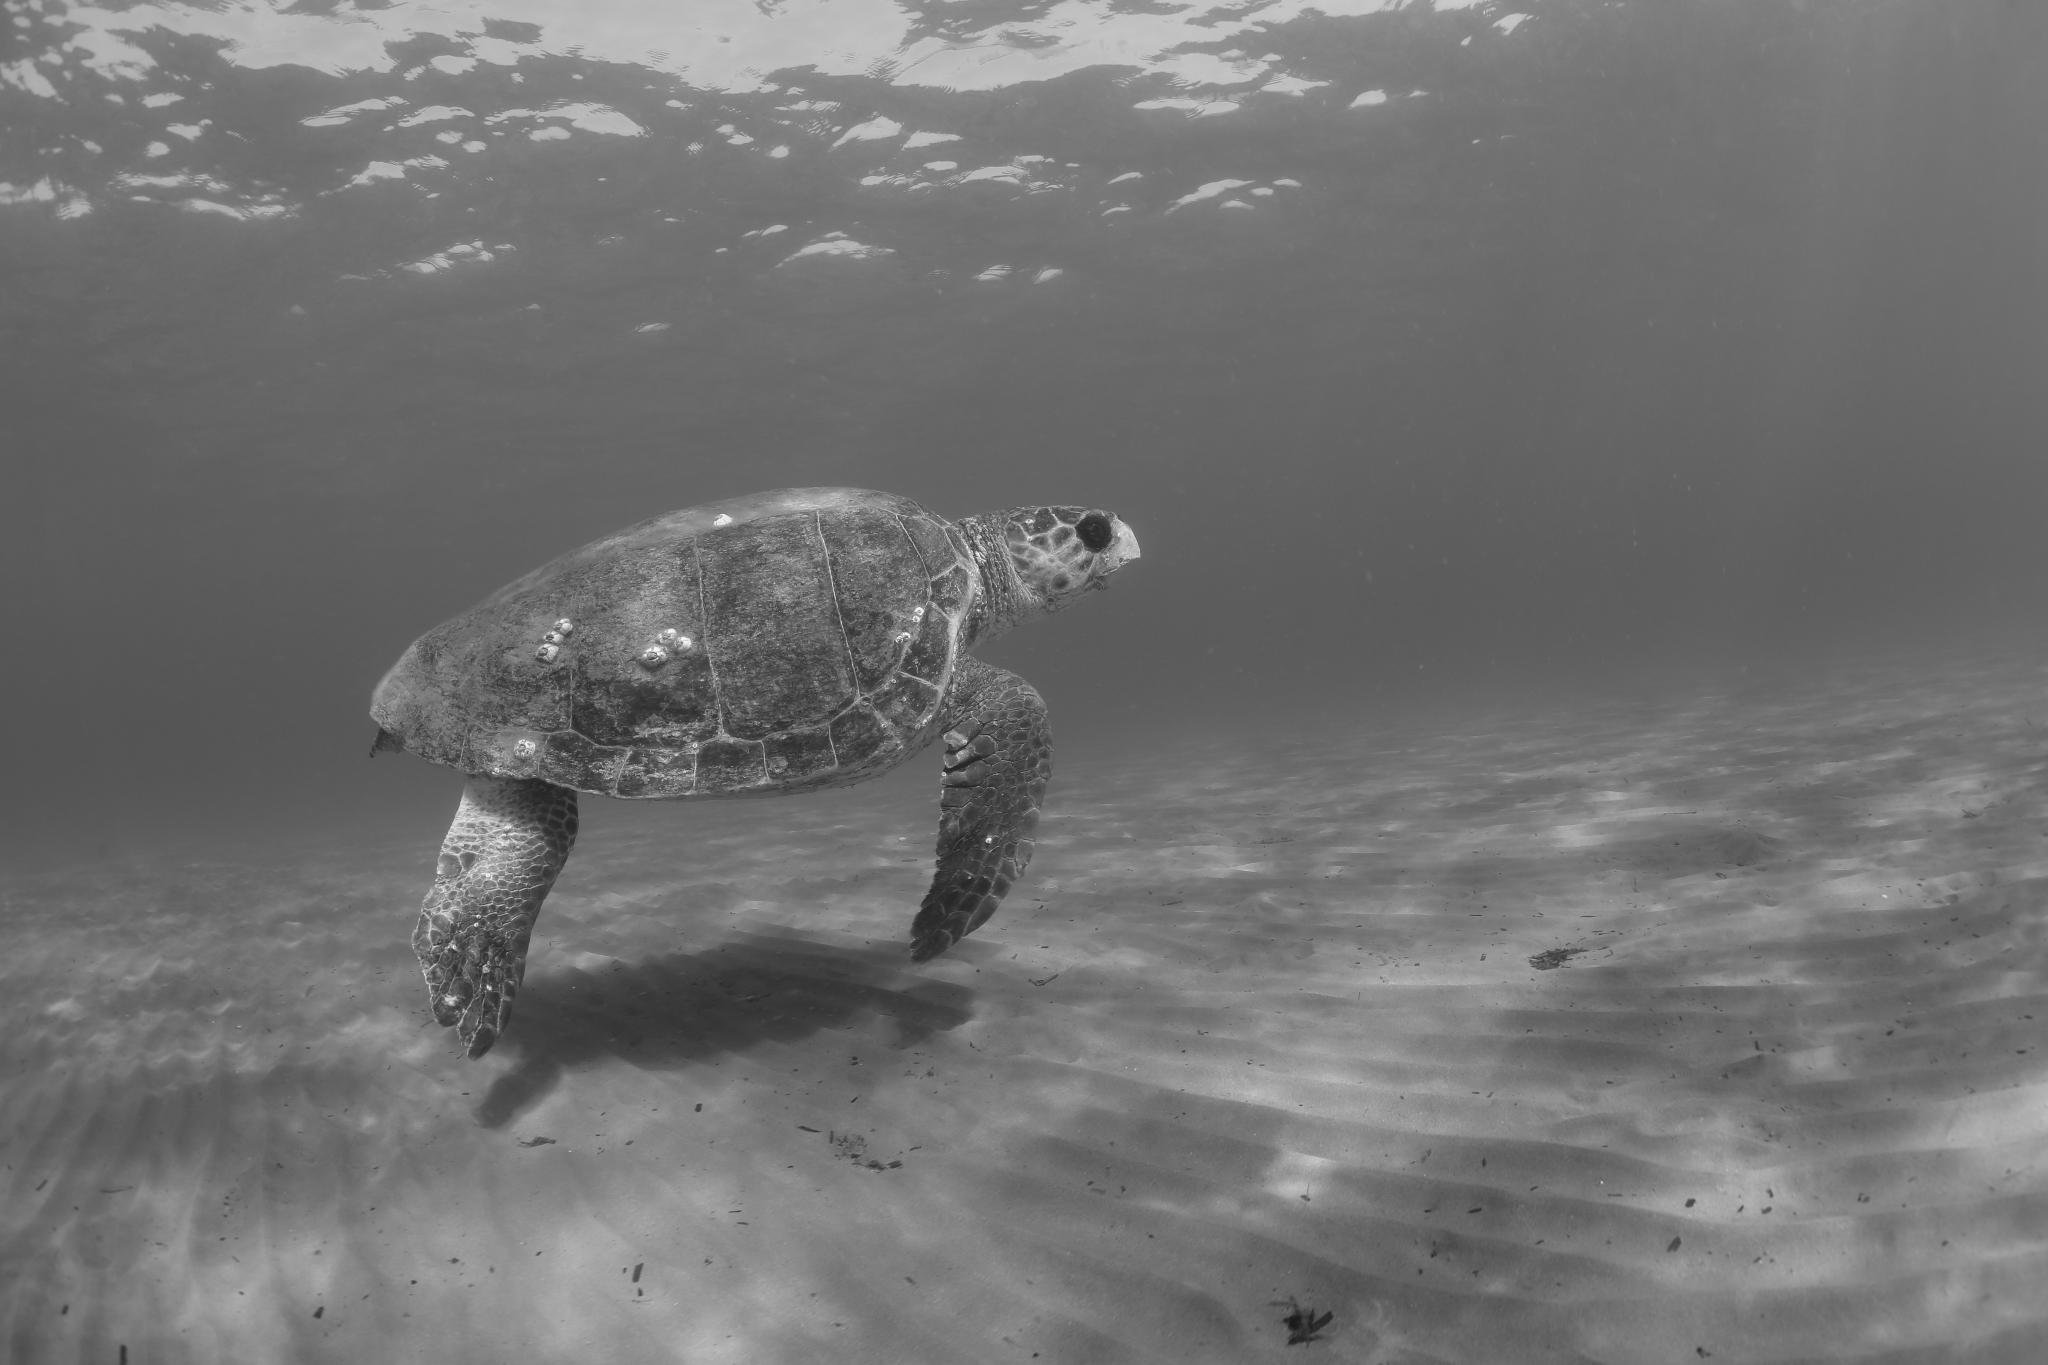Head: (956, 506, 1140, 643)
